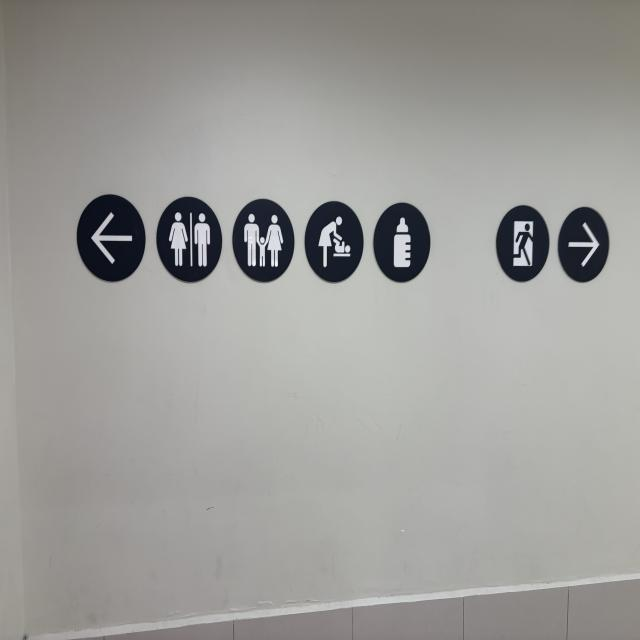toilet_icon: (165, 204, 217, 286)
